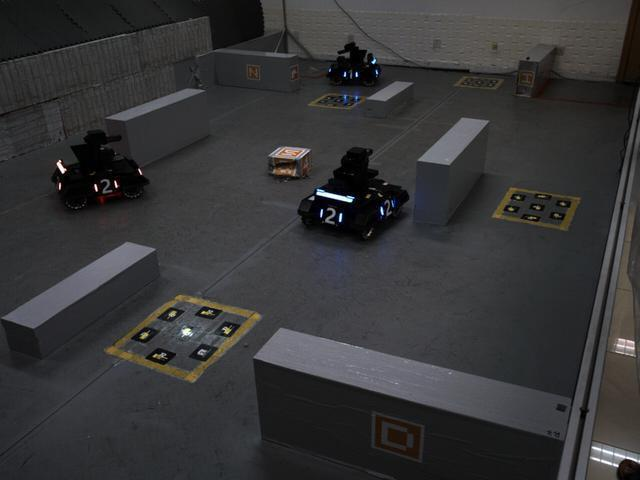armor: (88, 173, 122, 200), (315, 202, 345, 231), (378, 195, 397, 222), (339, 65, 362, 81)
